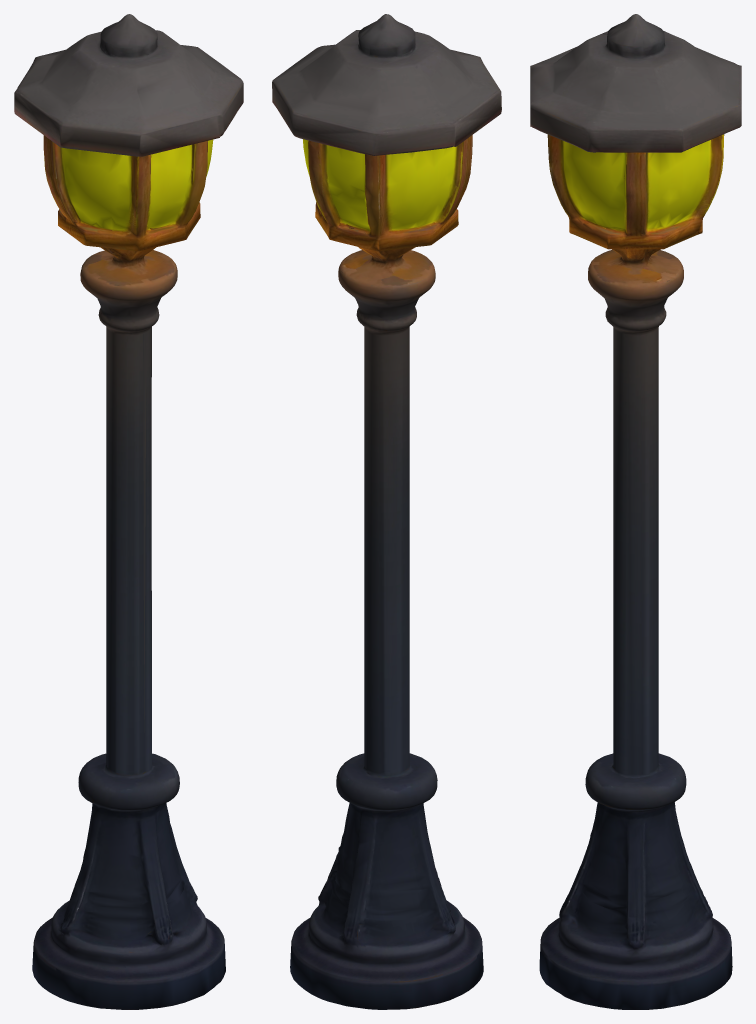
The model's file is env_streetlamp.glb.
3 renders of one model, left to right at view 1: azimuth 30°, elevation 25°; view 2: azimuth 150°, elevation 25°; view 3: azimuth 270°, elevation 25°, orthographic.
Parts seen in each view (by area): view 1: model; view 2: model; view 3: model.
Boxes of the visible parts, x1,y1,x2,y2 form: model: [14, 14, 243, 1009]; model: [272, 14, 501, 1009]; model: [530, 14, 741, 1009].
Bounding box in the file's own units: 0.381 × 1.9 × 0.381.
1 material, 1 textured.
